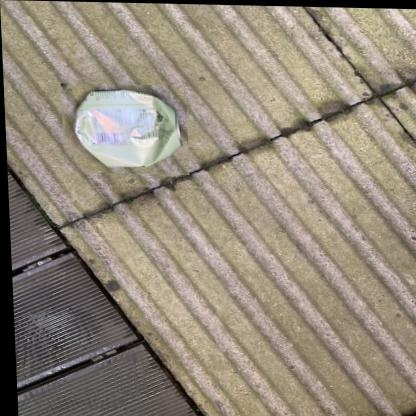trash: (75, 90, 180, 166)
